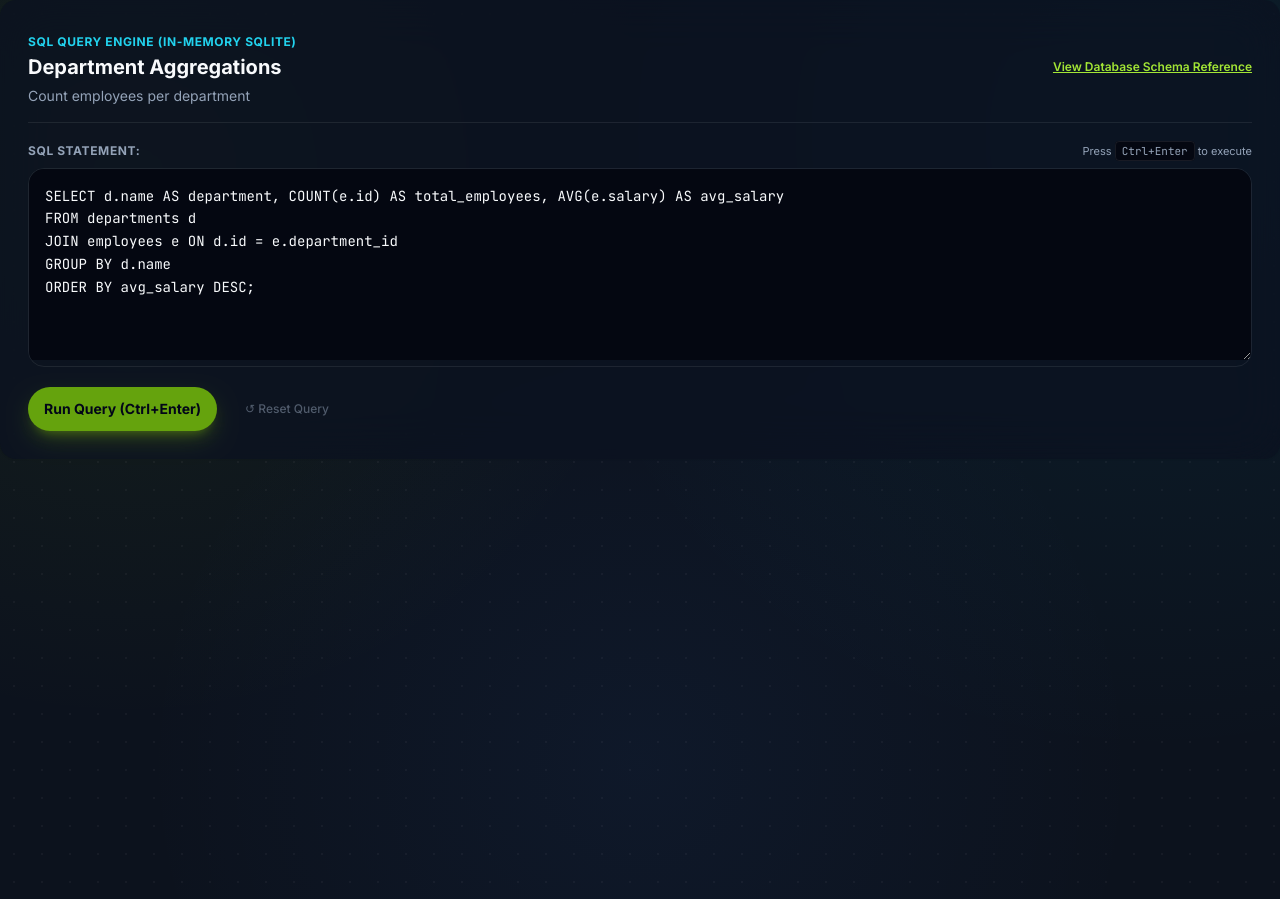
Test case: SqlQuerySandbox › renders title, editor, and runs query successfully to display tabular rows
The width and height of the screenshot is (1280, 899).
Expected: the heading "Department Aggregations" is shown, [28,52,296,82]
Expected: the text "Count employees per department" is shown, [28,87,250,104]
// Toggle schema reference
Click the button "View Database Schema Reference". click: coordinates (1152, 67)
box: [1053,45,1252,89]
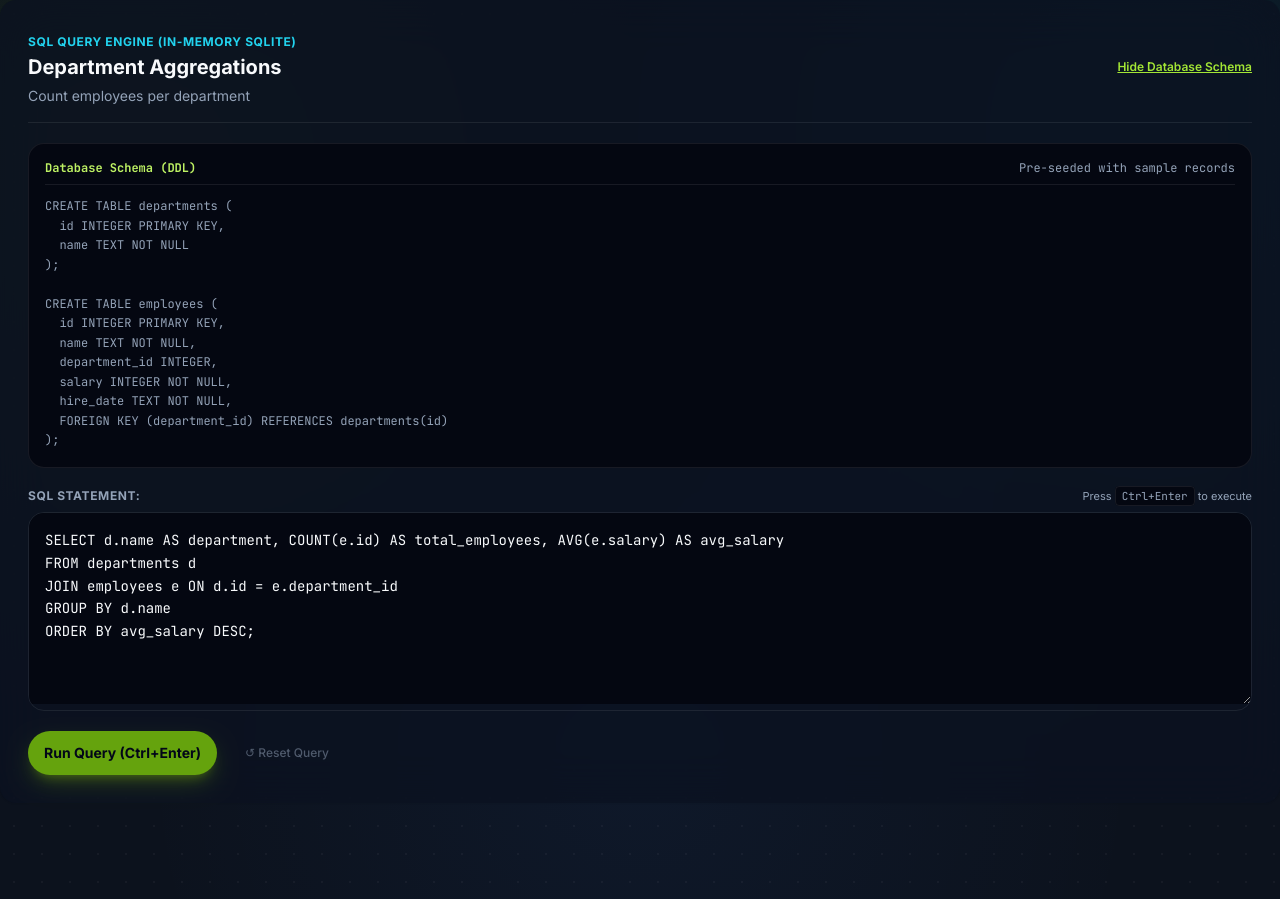
Expected: the button "Hide Database Schema" is shown, [1117,45,1252,89]
Expected: the text "Database Schema (DDL)" is shown, [45,160,196,176]
// Run query
Click the button "Run Query (Ctrl+Enter)". click: coordinates (122, 753)
box: [28,731,217,775]
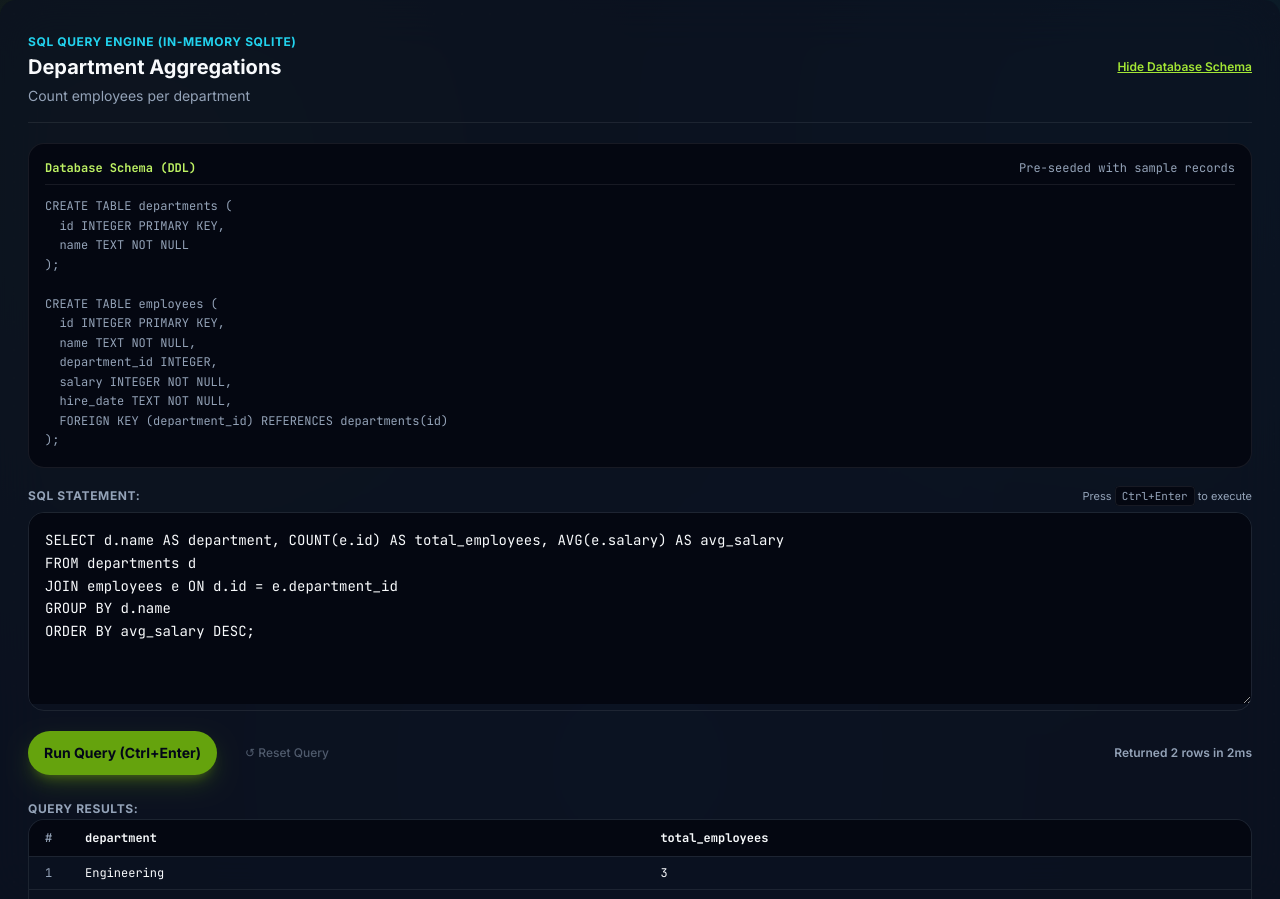
Expected: the text "Engineering" is shown, [69,857,644,890]
Expected: the text "Returned 2 rows in 2ms" is shown, [1114,745,1252,761]
